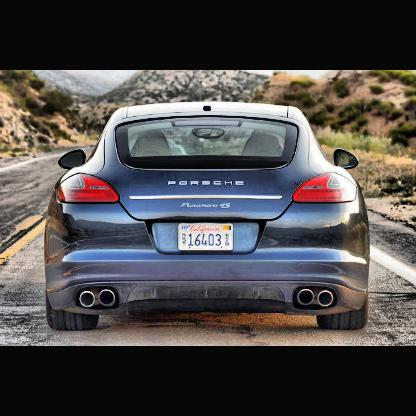Porsche Panamera Sedan 2012: (46, 101, 374, 333)
